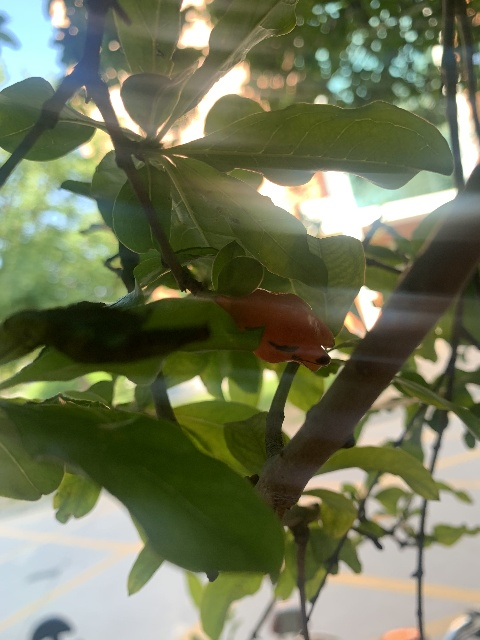flower: (218, 287, 335, 371)
